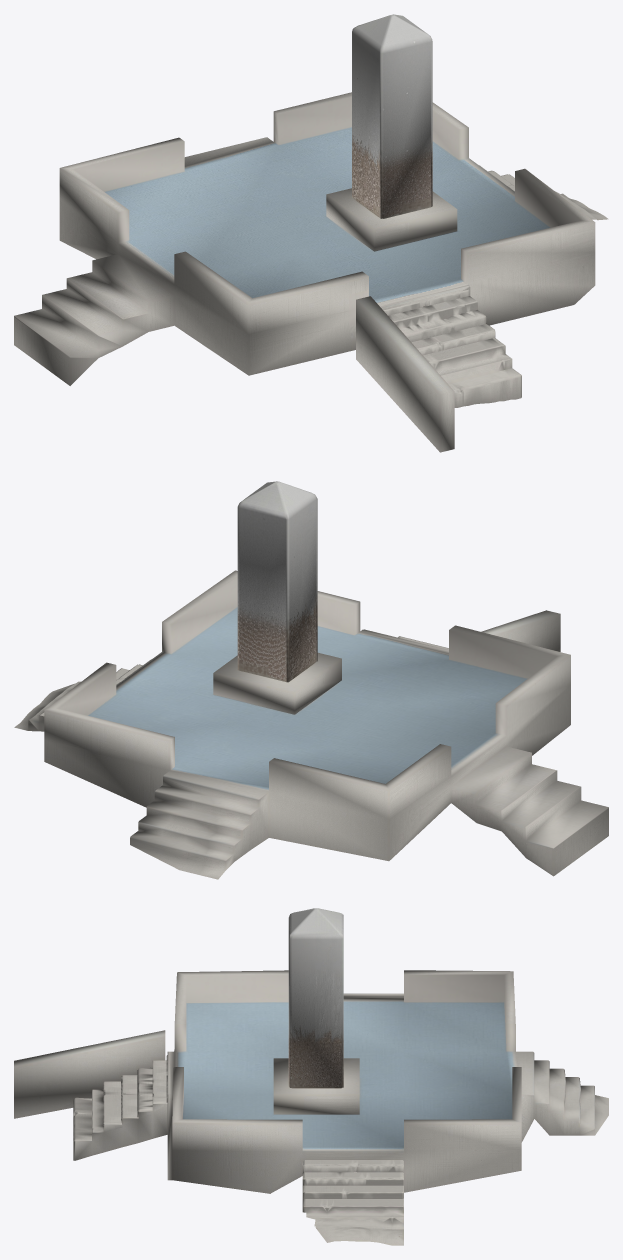
File: desert+monument+3d+model.fbx
The picture shows the model from 3 angles, top to bottom: view 1: azimuth 30°, elevation 25°; view 2: azimuth 150°, elevation 25°; view 3: azimuth 270°, elevation 25°; orthographic projection. The views are drawn at different scales.
Visible parts, largest first — view 1: meshes[0]; view 2: meshes[0]; view 3: meshes[0].
Boxes of the visible parts, x1,y1,x2,y2 form: meshes[0]: [14, 14, 608, 452]; meshes[0]: [14, 481, 608, 879]; meshes[0]: [14, 908, 608, 1245].
Bounding box in the file's own units: 0.9629 × 0.4746 × 0.998.
Materials: 1 (1 with a texture image).
